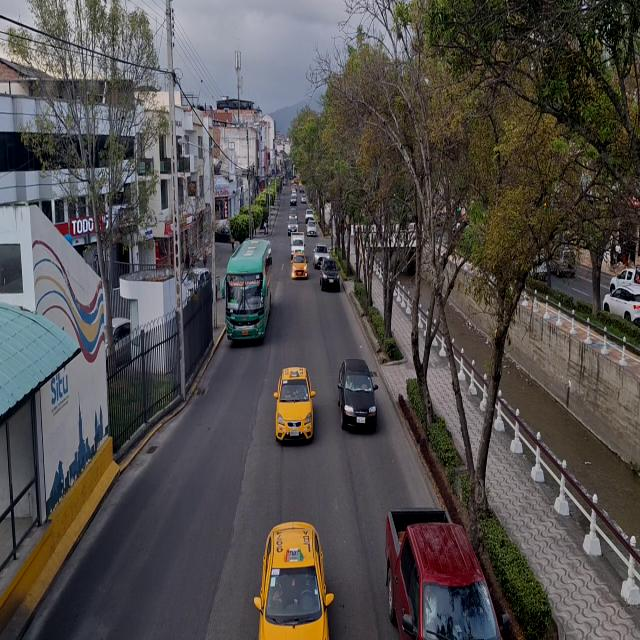BUS: (224, 246, 269, 340)
CMT: (384, 507, 495, 640)
